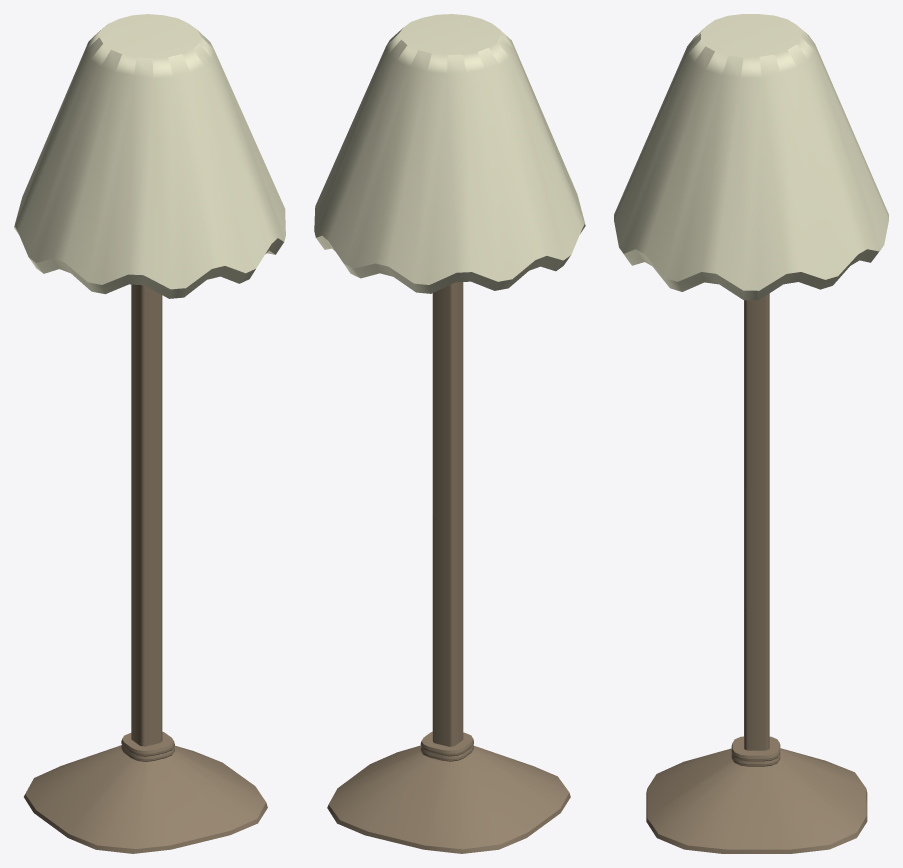
File: Lamp.fbx
3 renders of one model, left to right at view 1: azimuth 30°, elevation 25°; view 2: azimuth 150°, elevation 25°; view 3: azimuth 270°, elevation 25°, orthographic.
Parts seen in each view (by area): view 1: pasted__pasted__pCylinder2, pasted__pasted__pasted__pasted__pCube9 (×2), pasted__pasted__pasted__pCube9; view 2: pasted__pasted__pCylinder2, pasted__pasted__pasted__pasted__pCube9 (×2), pasted__pasted__pasted__pCube9; view 3: pasted__pasted__pCylinder2, pasted__pasted__pasted__pasted__pCube9 (×2), pasted__pasted__pasted__pCube9.
Part boxes in pixels (left/top/right/bottom): pasted__pasted__pCylinder2: left=14, top=14, right=285, bottom=298; pasted__pasted__pasted__pasted__pCube9 (×2): left=24, top=731, right=267, bottom=853; pasted__pasted__pasted__pCube9: left=131, top=284, right=162, bottom=746; pasted__pasted__pCylinder2: left=314, top=14, right=585, bottom=293; pasted__pasted__pasted__pasted__pCube9 (×2): left=327, top=731, right=570, bottom=853; pasted__pasted__pasted__pCube9: left=432, top=282, right=463, bottom=746; pasted__pasted__pCylinder2: left=614, top=14, right=888, bottom=300; pasted__pasted__pasted__pasted__pCube9 (×2): left=646, top=736, right=867, bottom=853; pasted__pasted__pasted__pCube9: left=744, top=293, right=769, bottom=750.
Bounding box in the file's own units: 10.72 × 33.47 × 10.78.
